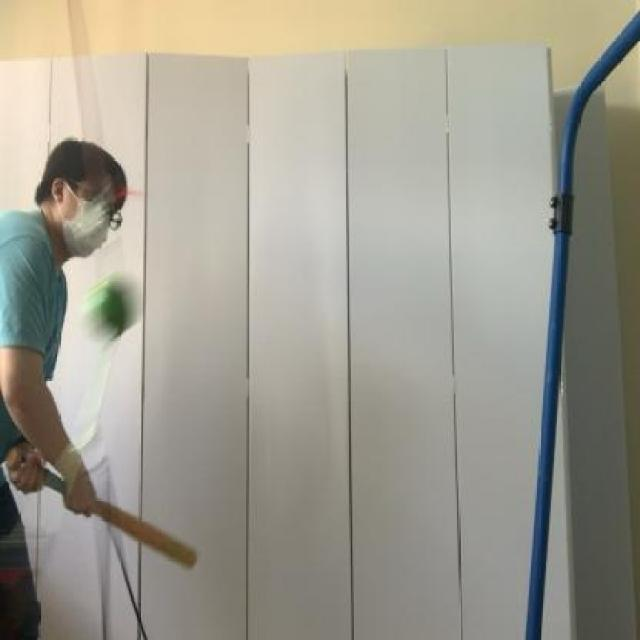baseball: (75, 274, 148, 341)
